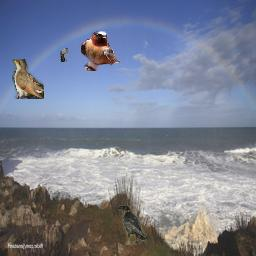Crow: (118, 205, 147, 245)
Cuckoo: (12, 59, 44, 99), (60, 48, 70, 62)
Swallow: (81, 31, 120, 71)
